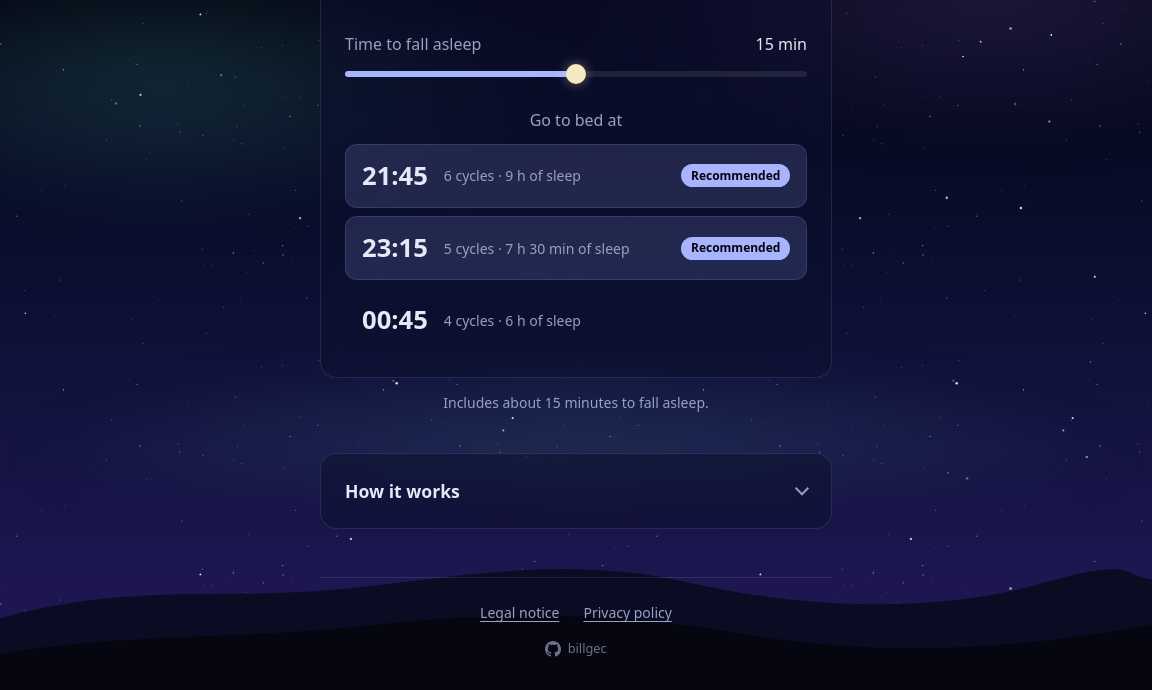
Test: App › explains how sleep cycles work below the calculator
This screenshot has width=1152, height=690.
(page scrolled)
What coordinates should you click on to do the following:
click the heading "How it works"
I would click on:
 (402, 491)
Its box is x1=345 y1=479 x2=460 y2=503.
(page scrolled)
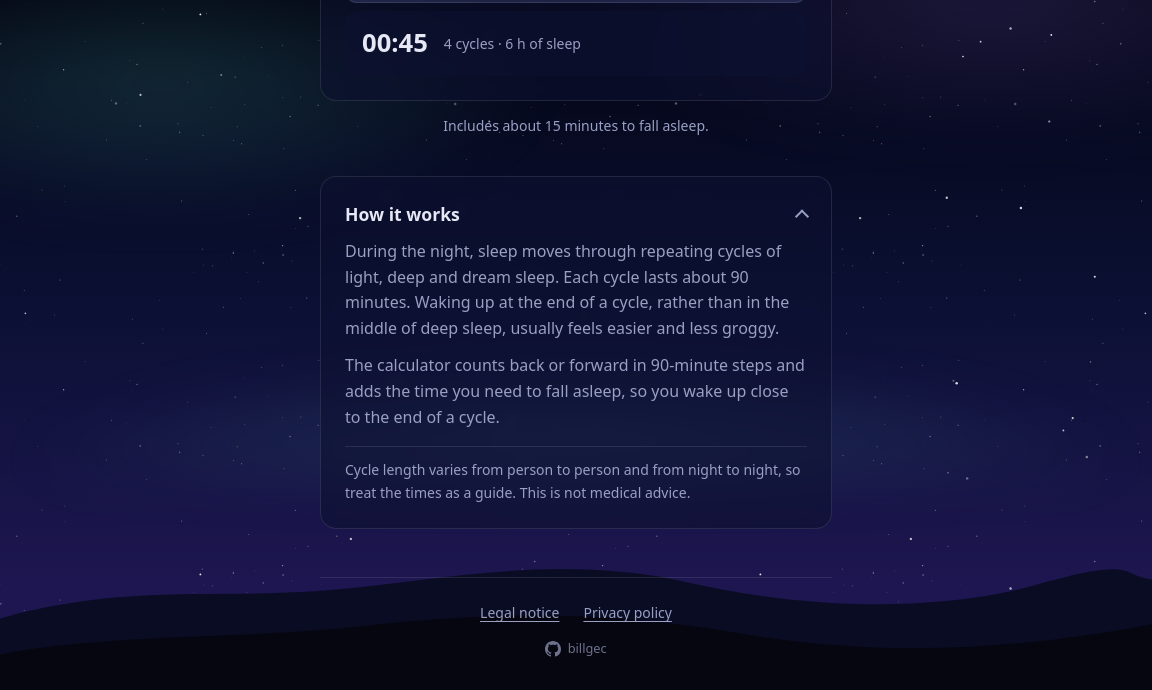
Expected: the text "about 90 minutes" is shown, x1=345 y1=240 x2=789 y2=339
Expected: the text "not medical advice" is shown, x1=345 y1=460 x2=801 y2=502
